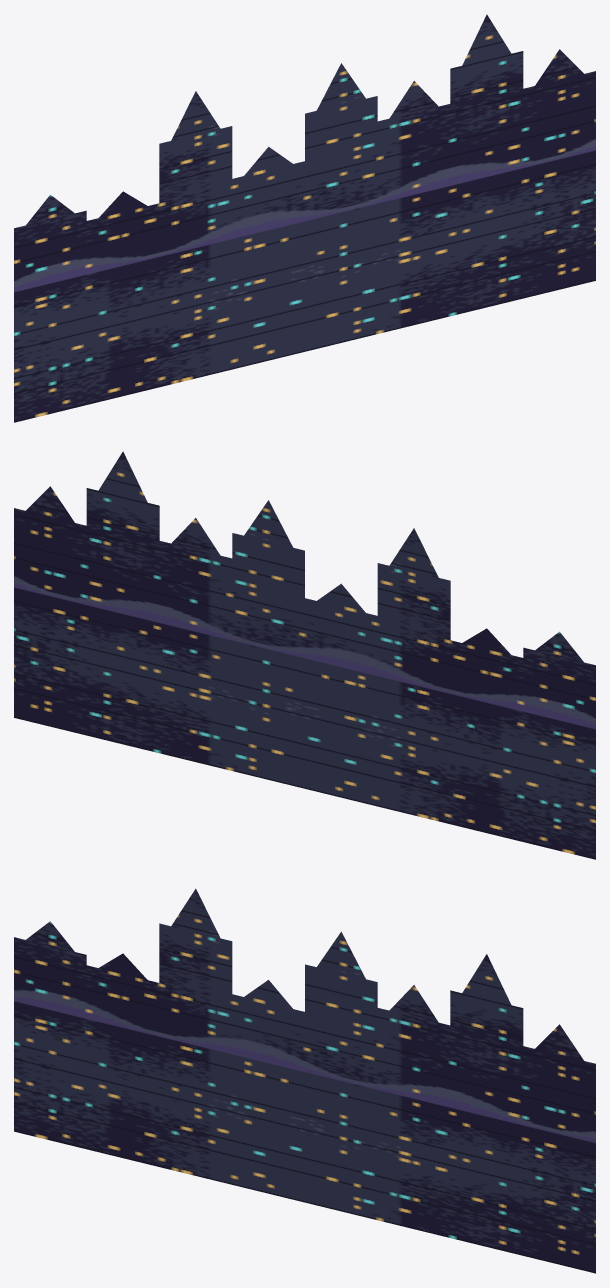
File: cysky.needle__low.glb
The picture shows the model from 3 angles, top to bottom: view 1: azimuth 30°, elevation 25°; view 2: azimuth 150°, elevation 25°; view 3: azimuth 330°, elevation 25°; orthographic projection.
Visible parts, largest first — view 1: kit_card_skyline; view 2: kit_card_skyline; view 3: kit_card_skyline.
Boxes of the visible parts, x1,y1,x2,y2 form: kit_card_skyline: [14, 14, 595, 422]; kit_card_skyline: [14, 451, 595, 859]; kit_card_skyline: [14, 888, 595, 1273].
Bounding box in the file's own units: 56 × 26.97 × 0.
Materials: 1 (1 with a texture image).
